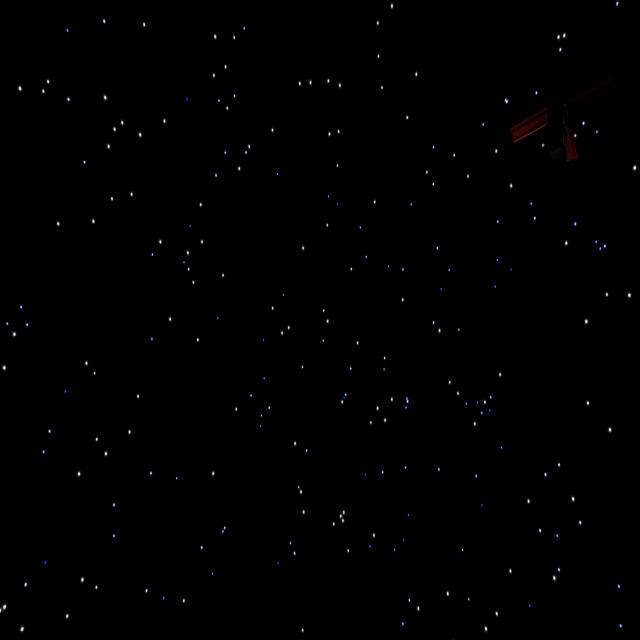satellite: (508, 59, 616, 176)
